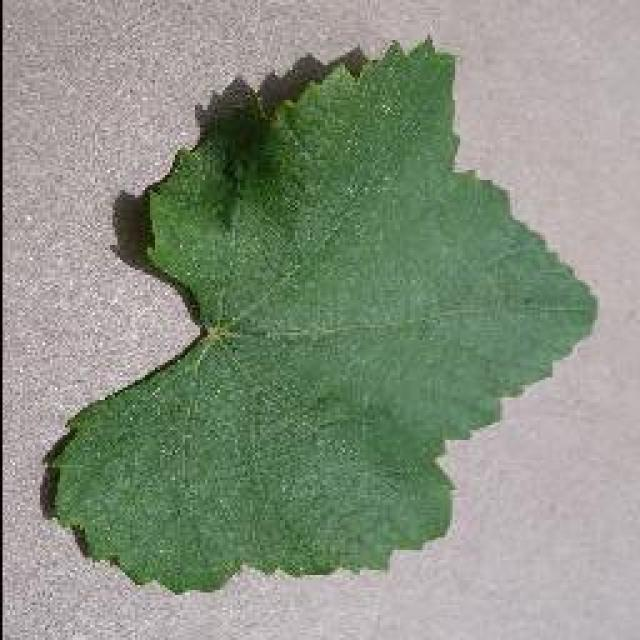Grape___healthy: (50, 40, 595, 588)
